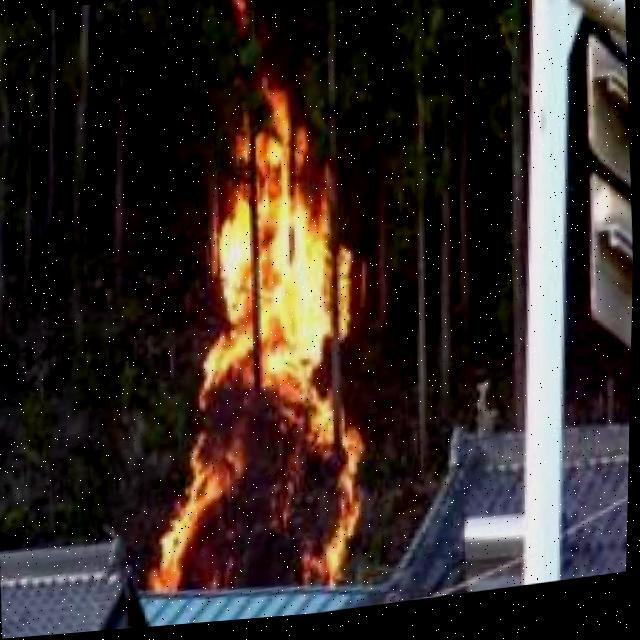Fire: (128, 87, 381, 606)
